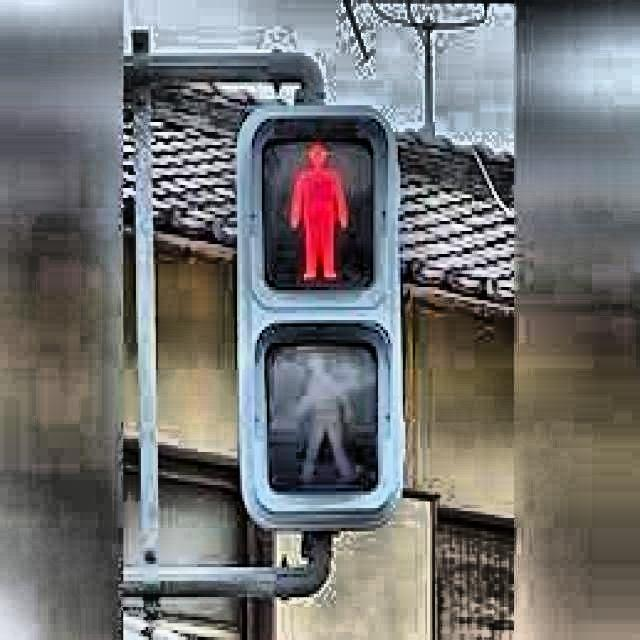semaforo pedestre: (172, 60, 462, 573)
